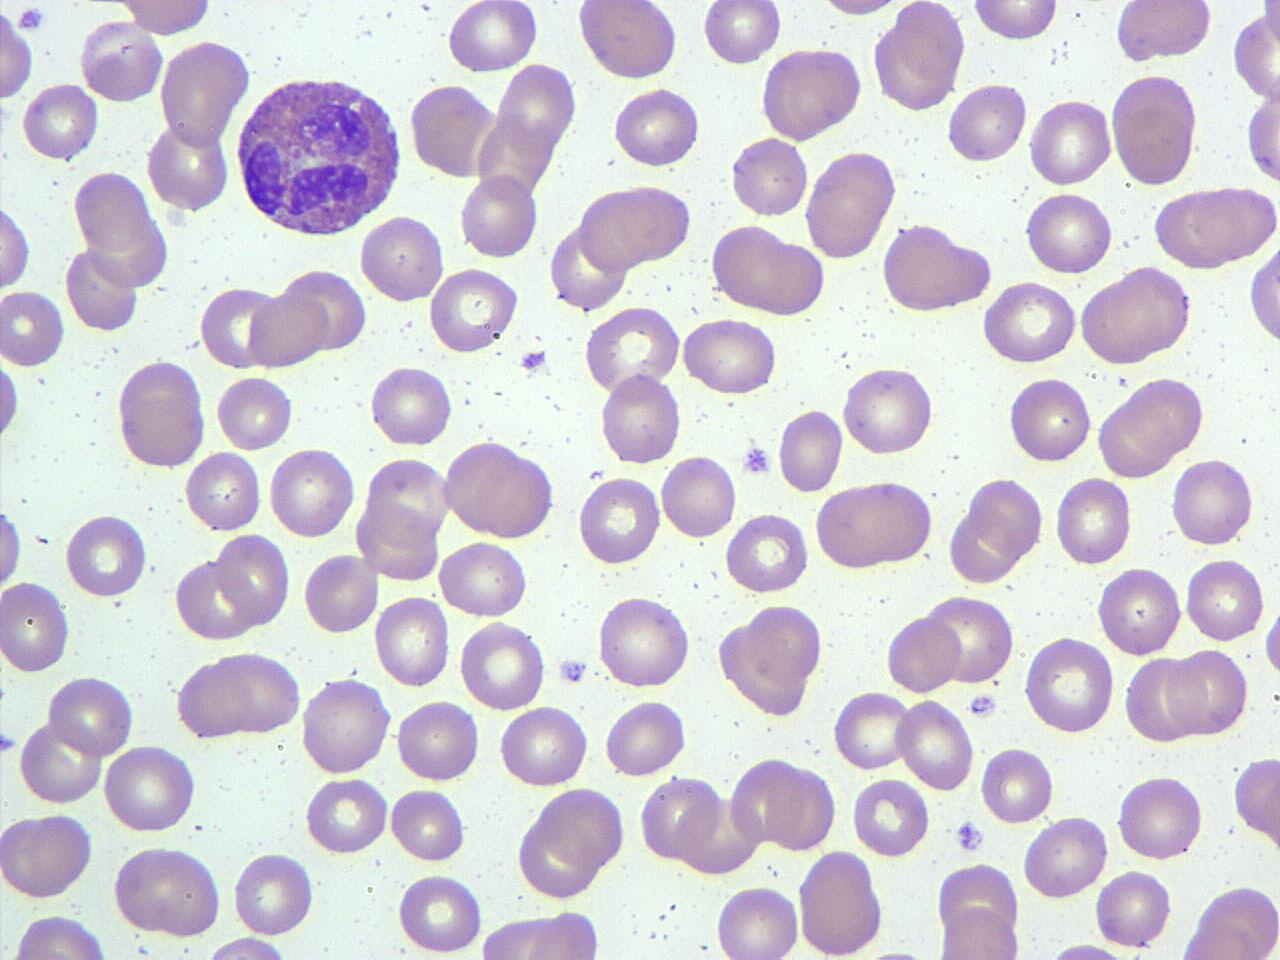Platelets: (740, 440, 773, 479), (552, 654, 590, 688), (864, 942, 926, 960), (952, 818, 984, 854), (966, 690, 1000, 720), (16, 5, 48, 34), (518, 349, 547, 372), (0, 730, 18, 758)
RBC: (716, 600, 828, 716), (1077, 263, 1193, 368), (441, 439, 558, 541), (706, 221, 828, 316), (110, 840, 224, 939), (814, 477, 935, 570), (1107, 71, 1201, 187), (573, 183, 692, 272), (1150, 183, 1268, 272), (802, 149, 898, 259), (879, 222, 995, 313), (114, 358, 208, 470), (157, 36, 250, 148), (757, 45, 864, 142), (594, 592, 693, 693), (299, 674, 395, 778), (795, 848, 886, 956), (582, 305, 682, 401), (1022, 633, 1117, 736), (100, 741, 198, 837), (840, 364, 938, 458), (978, 278, 1080, 368), (409, 81, 500, 181), (1093, 564, 1185, 659), (427, 264, 524, 356), (267, 444, 358, 542), (457, 616, 547, 712), (356, 212, 446, 308), (0, 809, 94, 901), (598, 370, 684, 469), (679, 315, 780, 399), (574, 2, 680, 82), (1115, 771, 1205, 864), (496, 700, 590, 790), (145, 117, 232, 214), (1164, 642, 1250, 740), (1022, 188, 1114, 278), (210, 648, 304, 736), (1168, 454, 1256, 549), (1006, 373, 1094, 467), (928, 592, 1014, 688), (364, 452, 453, 543), (1026, 97, 1114, 189), (574, 474, 662, 566), (436, 536, 530, 622), (896, 694, 976, 794), (496, 59, 578, 156), (394, 694, 480, 786), (232, 846, 316, 939), (371, 591, 450, 691), (17, 717, 104, 807), (368, 361, 455, 451), (610, 85, 700, 170), (546, 219, 628, 314), (1184, 552, 1266, 646), (723, 509, 810, 597), (637, 772, 723, 862), (214, 529, 291, 628), (1054, 472, 1134, 568), (1020, 812, 1107, 899), (395, 870, 486, 954), (62, 510, 148, 598), (47, 673, 136, 757), (603, 694, 688, 781), (175, 554, 257, 644), (730, 132, 812, 221), (445, 0, 542, 76), (476, 904, 605, 960), (79, 18, 163, 104), (198, 283, 280, 371), (945, 79, 1028, 166), (0, 576, 73, 676), (888, 0, 969, 90), (287, 261, 368, 351), (658, 451, 738, 542), (301, 548, 381, 638), (541, 784, 626, 868), (458, 172, 539, 260), (713, 880, 802, 960), (304, 774, 390, 856), (849, 774, 930, 860), (1096, 393, 1176, 480), (833, 687, 913, 773), (183, 448, 263, 534), (1122, 654, 1196, 746), (71, 169, 152, 253), (1126, 375, 1206, 460), (728, 754, 800, 848), (214, 371, 295, 454), (1093, 866, 1173, 950), (20, 80, 100, 164), (967, 475, 1045, 561), (978, 741, 1056, 827), (65, 243, 139, 333), (884, 612, 962, 696), (946, 506, 1027, 586), (766, 763, 838, 853), (247, 290, 327, 370), (388, 786, 467, 866), (1111, 1, 1213, 63), (776, 404, 845, 496), (1190, 886, 1280, 956), (175, 657, 249, 740), (702, 0, 782, 69), (0, 286, 66, 369), (6, 910, 115, 959), (938, 904, 1022, 960), (1232, 10, 1280, 101), (1231, 753, 1279, 843), (110, 0, 219, 39), (970, 0, 1061, 43), (1175, 921, 1273, 960), (1246, 79, 1280, 189), (1246, 241, 1280, 348), (0, 9, 36, 102), (0, 195, 33, 292), (200, 934, 294, 960), (0, 498, 23, 592), (814, 0, 910, 21), (0, 358, 21, 444), (1258, 0, 1280, 55)
WBC: (230, 71, 408, 240), (718, 600, 828, 719), (159, 37, 255, 146), (874, 2, 968, 111), (824, 480, 932, 570)
